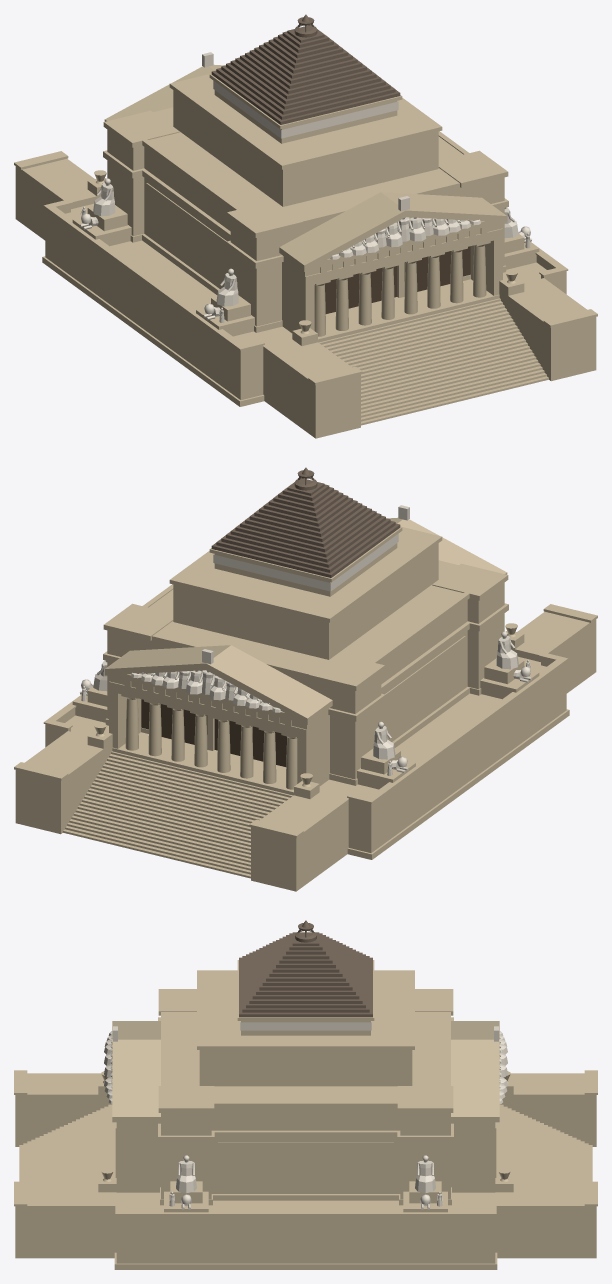
Rendered from melbourne-shrine-of-remembrance.detail.glb.
3 views of the same model, one above another, from view 1: azimuth 30°, elevation 25°; view 2: azimuth 150°, elevation 25°; view 3: azimuth 270°, elevation 25° (orthographic). The views are drawn at different scales.
Parts seen in each view (by area): view 1: Shrine of Remembrance; view 2: Shrine of Remembrance; view 3: Shrine of Remembrance.
Boxes of the visible parts, bbox=[...] form: Shrine of Remembrance: bbox=[14, 14, 597, 438]; Shrine of Remembrance: bbox=[14, 467, 597, 891]; Shrine of Remembrance: bbox=[14, 920, 597, 1269].
Bounding box in the file's own units: 36.4 × 29.6 × 57.64.
